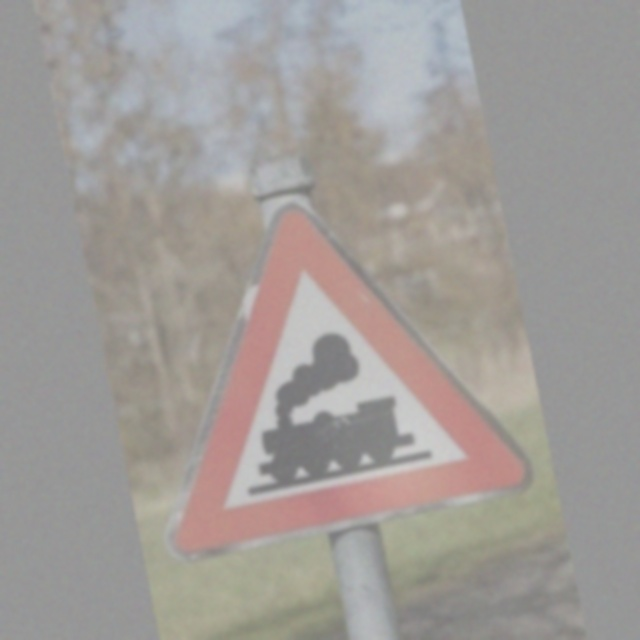Unguarded_Level_Crossing: (103, 167, 535, 564)
